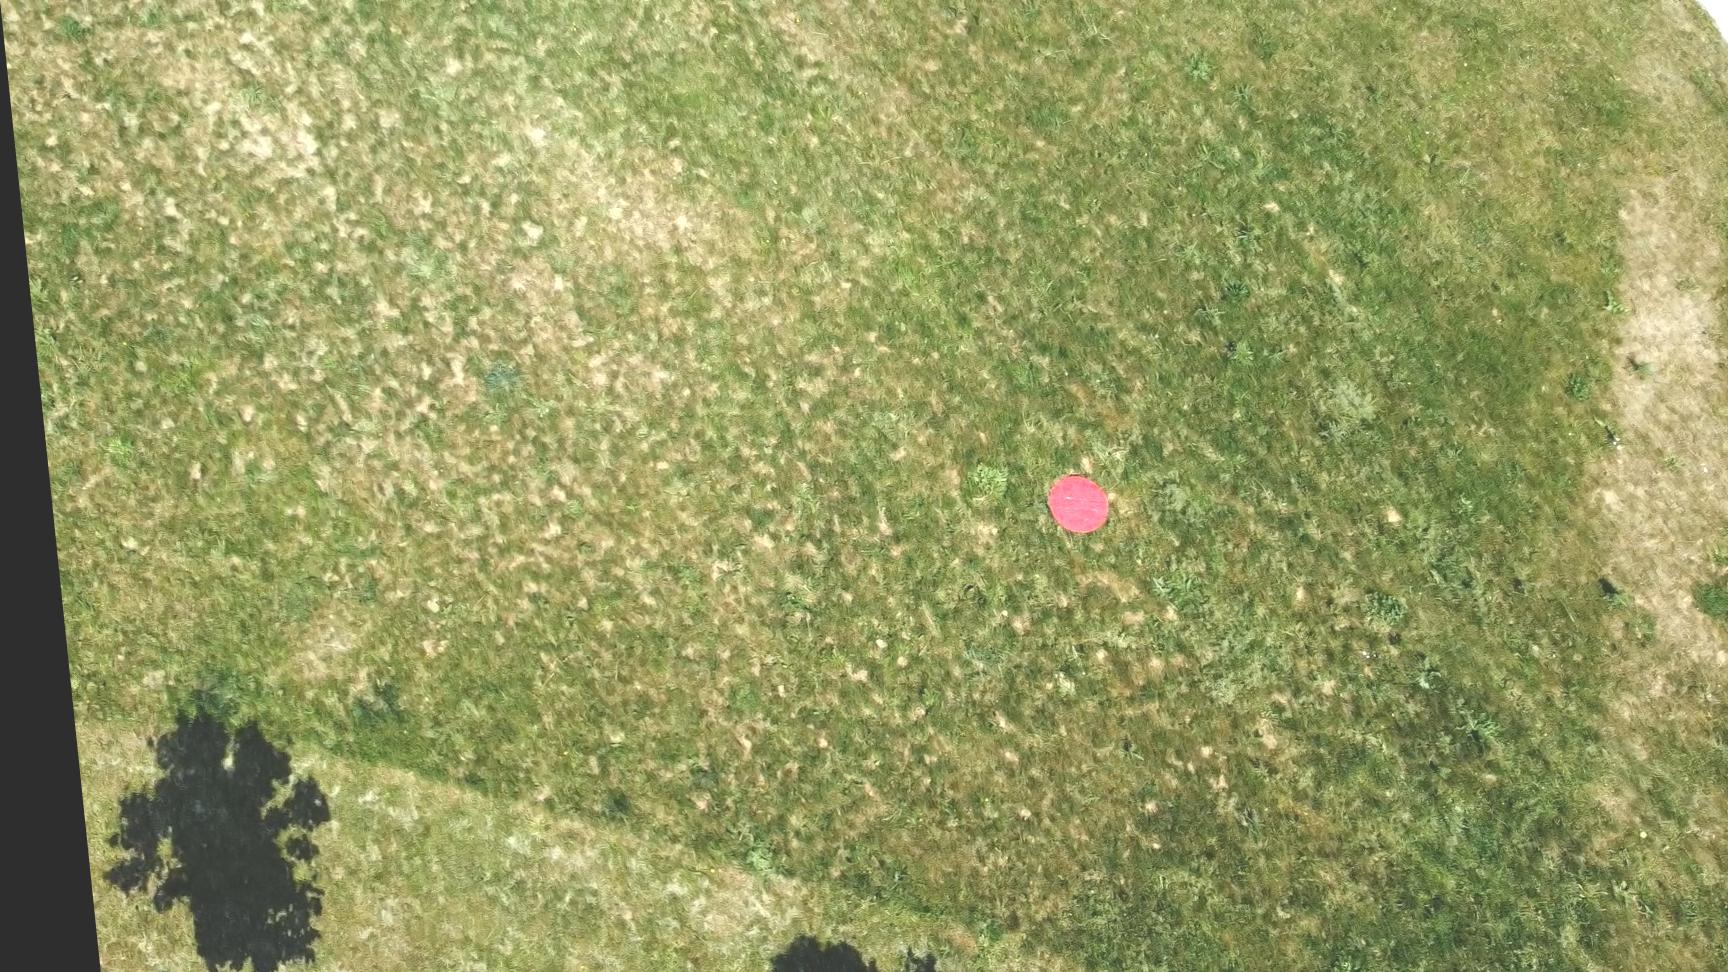Red: (1031, 472, 1103, 535)
